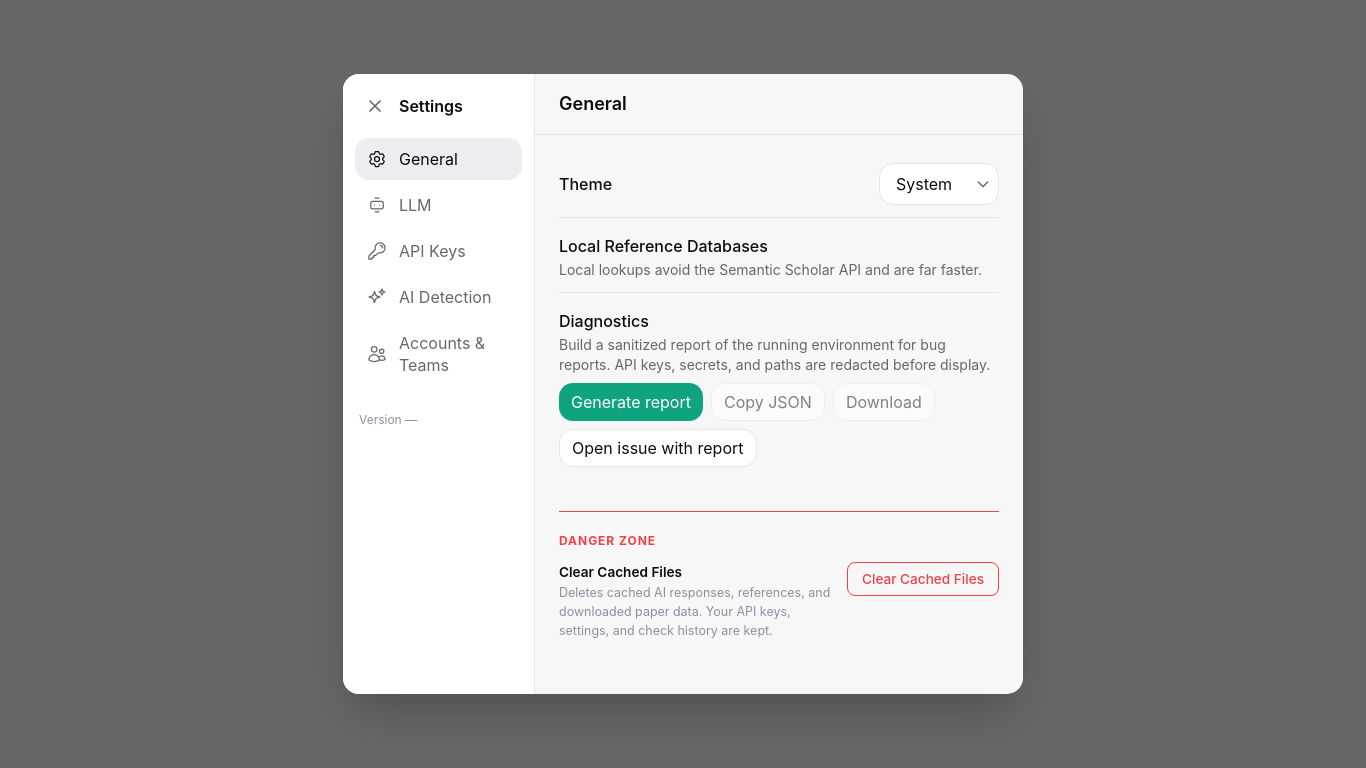
Test case: SettingsPanel Semantic Scholar key storage › offers Remove for the browser override key even when a server env key exists
The image size is (1366, 768).
Click the button "API Keys": point(438, 251) [355, 230, 522, 272]
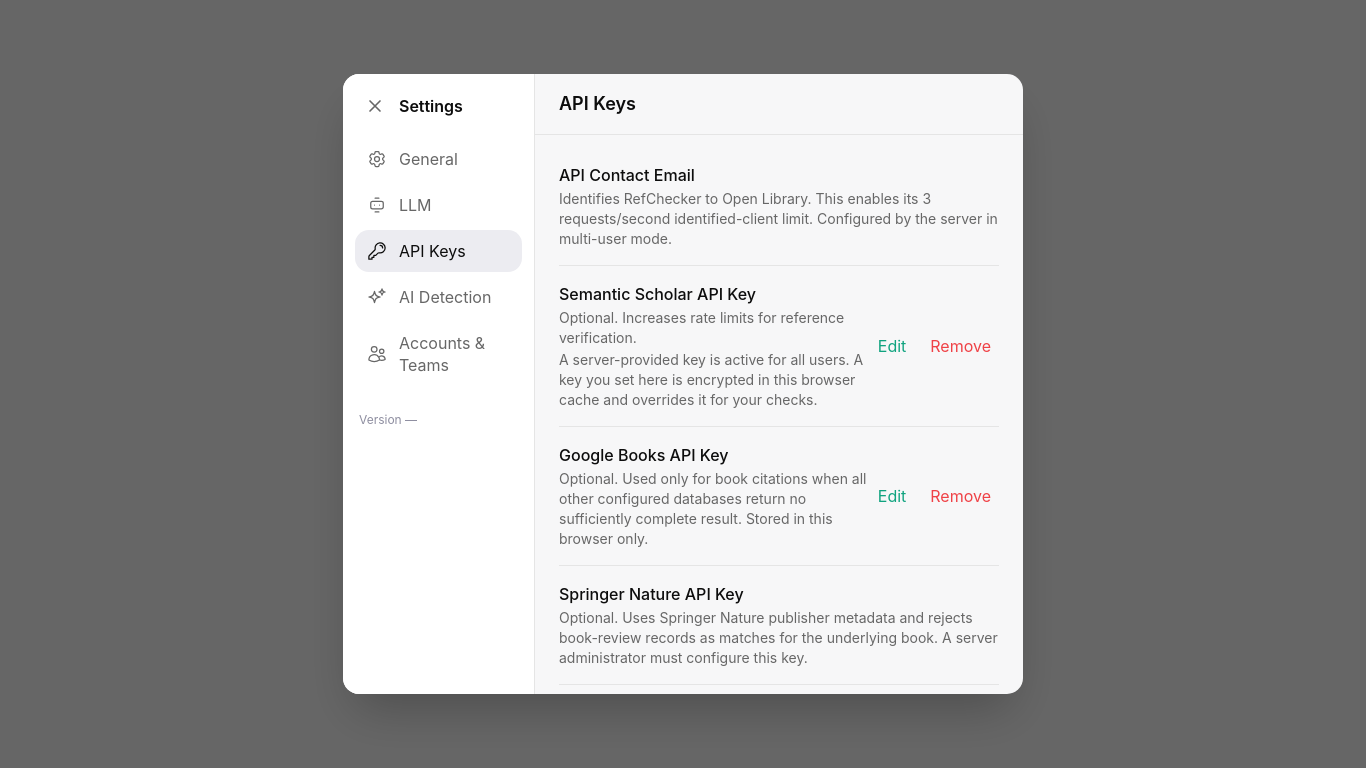
Expected: the number of buttons "Remove" is 3
